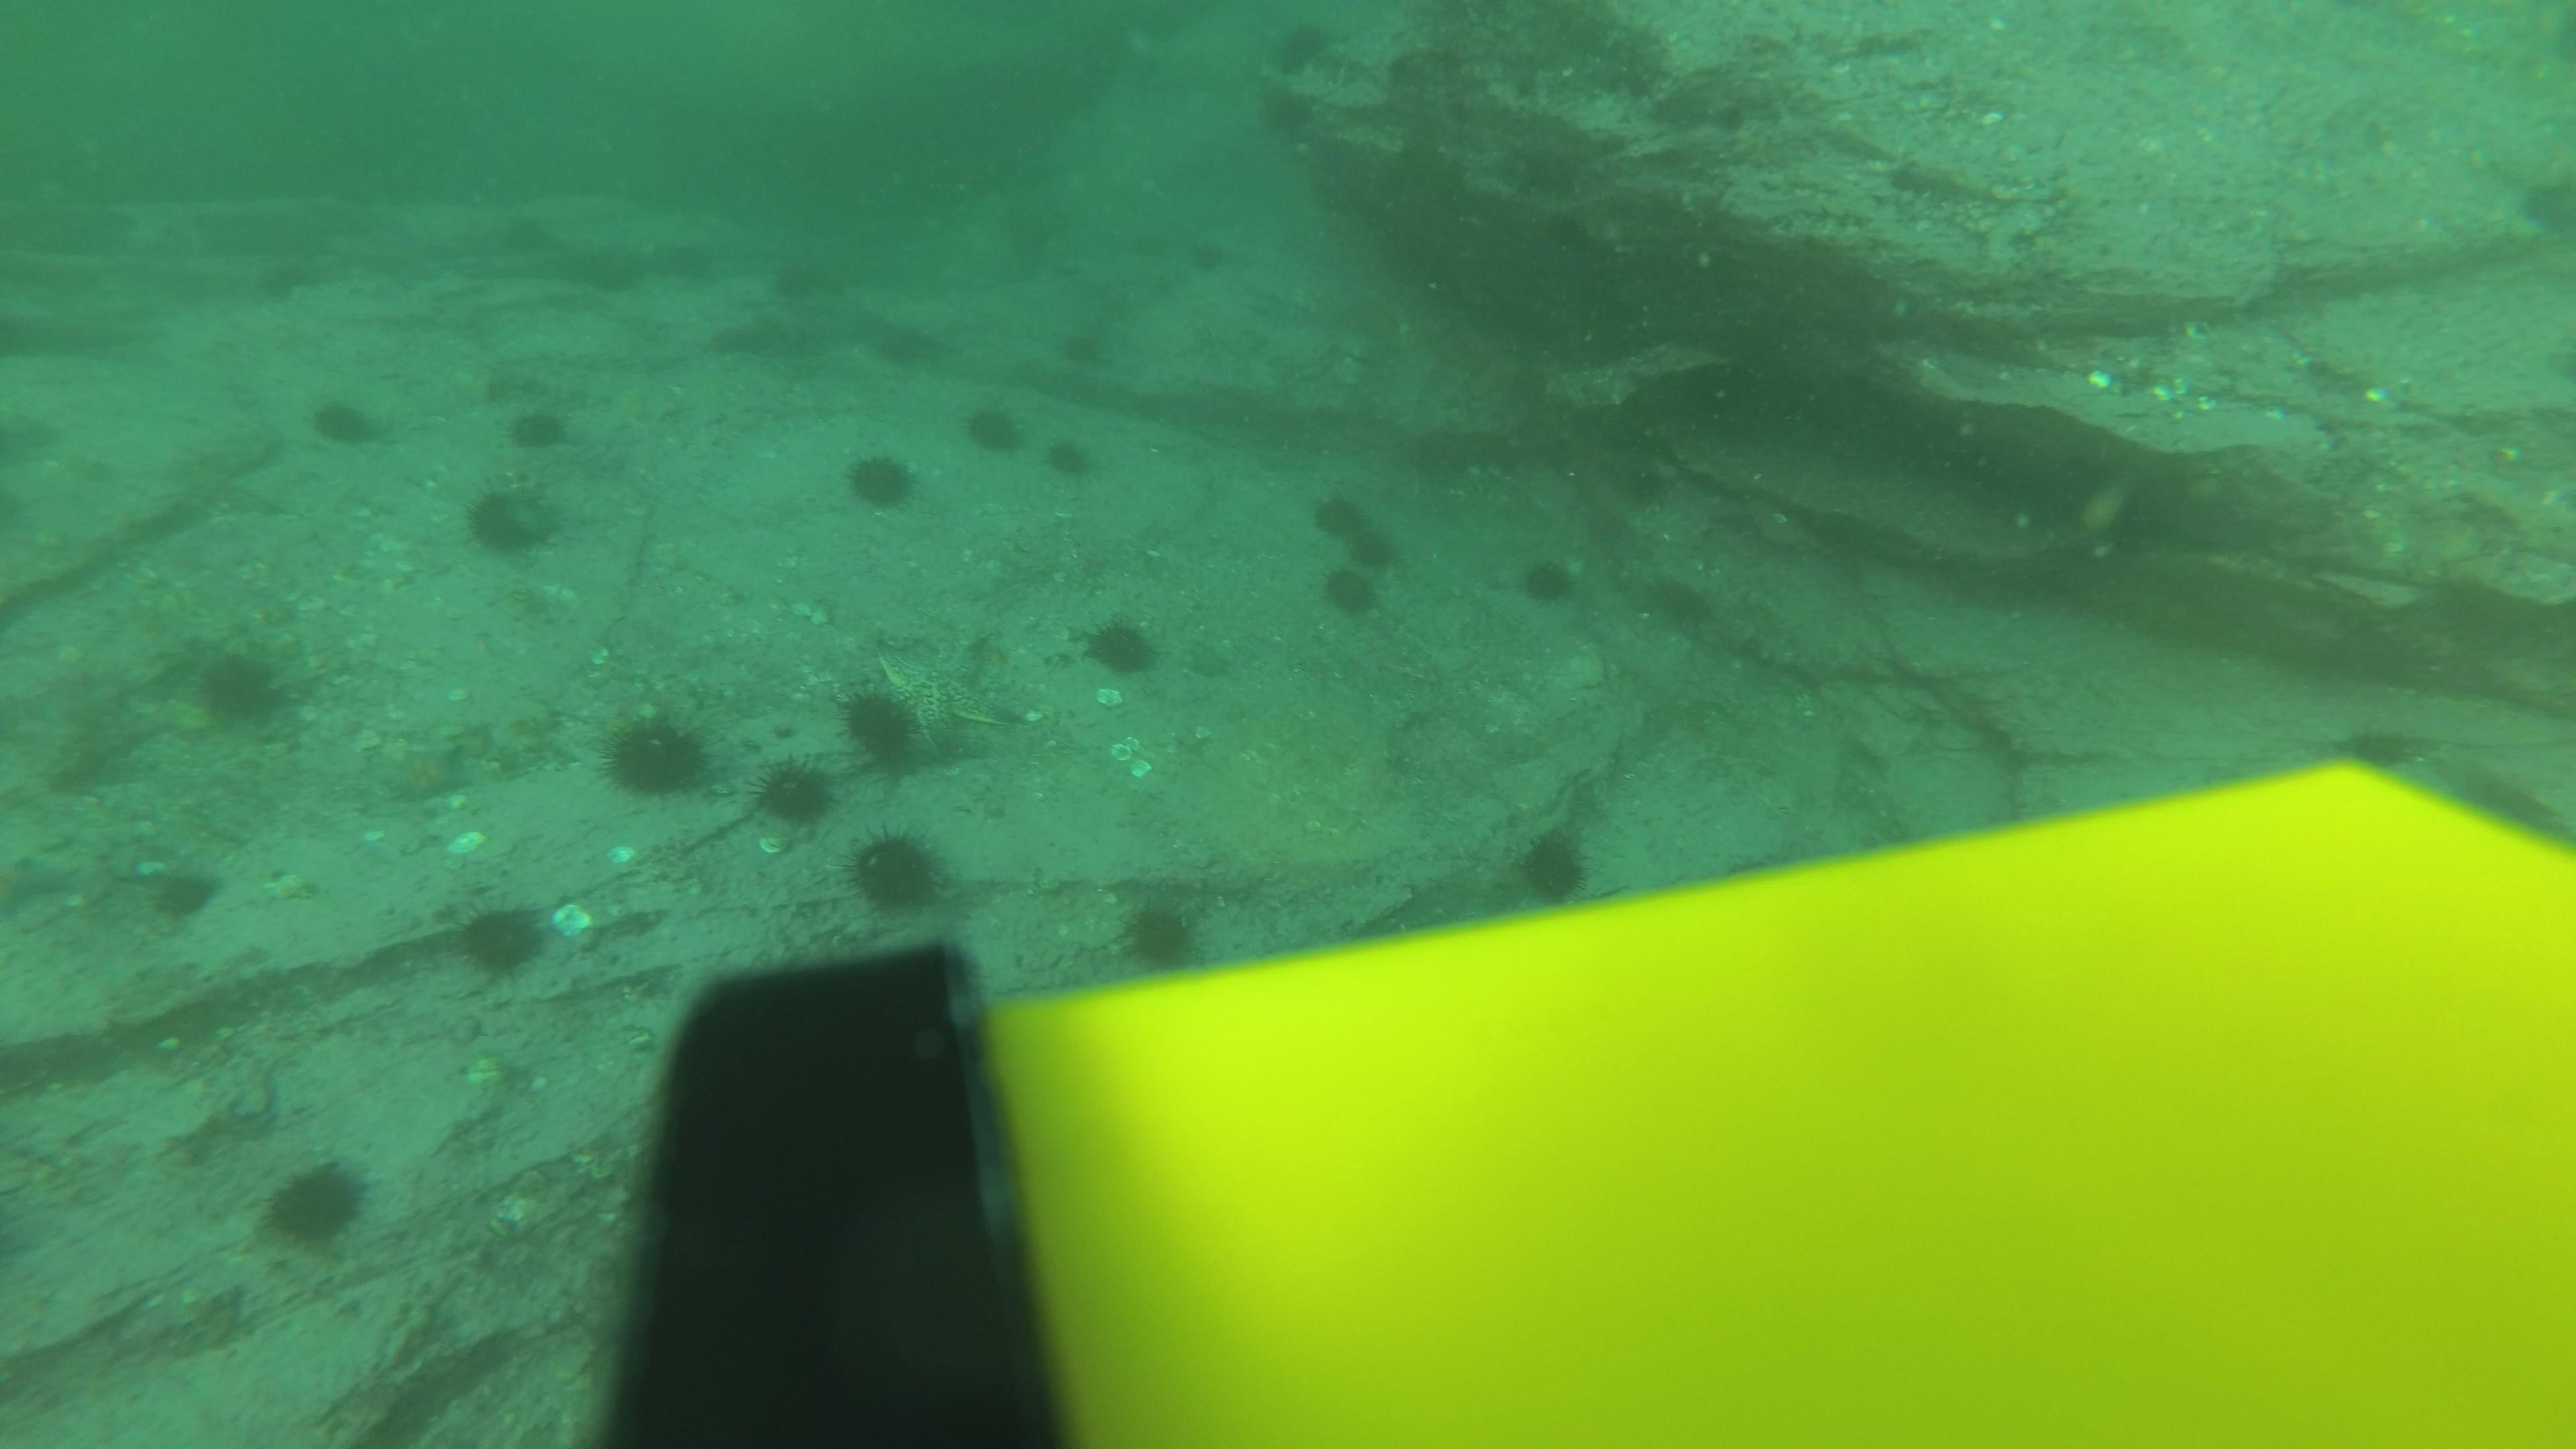echinus: (255, 1152, 373, 1254), (833, 674, 952, 777), (596, 704, 717, 805), (184, 637, 299, 736), (840, 823, 955, 920), (446, 893, 556, 985), (1111, 892, 1214, 977), (460, 479, 564, 563), (1506, 823, 1599, 909), (750, 754, 840, 833), (1074, 609, 1166, 683), (140, 856, 226, 929), (839, 442, 922, 517), (304, 387, 387, 455), (1304, 488, 1376, 554), (1306, 556, 1384, 616), (1513, 547, 1585, 610), (869, 313, 943, 375), (1338, 522, 1414, 582), (1606, 455, 1683, 515), (1645, 570, 1721, 630), (502, 396, 577, 456), (580, 237, 655, 297), (642, 225, 717, 285), (759, 255, 833, 315), (1053, 331, 1127, 391), (1164, 230, 1238, 290), (1246, 80, 1320, 140), (1258, 18, 1332, 78), (1529, 198, 1603, 258), (2353, 718, 2427, 778), (959, 396, 1028, 460), (1040, 430, 1100, 487)
starfish: (856, 630, 1031, 750), (372, 732, 474, 809), (0, 846, 81, 924), (2512, 165, 2576, 248)
